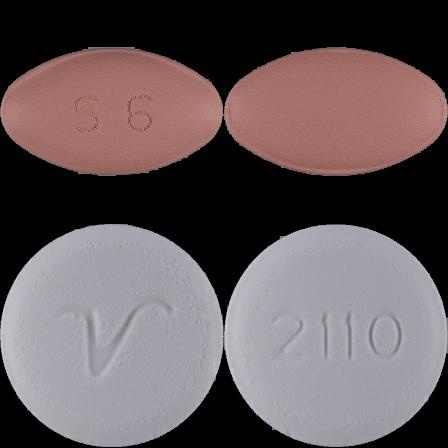50090-1000: (0, 0, 224, 224)
